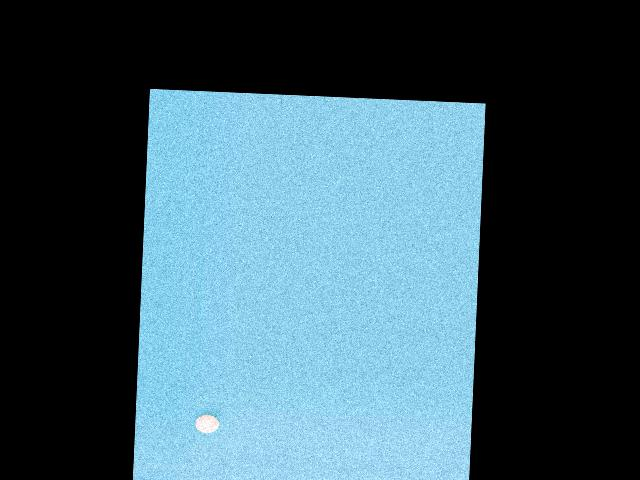egg: (194, 414, 220, 433)
